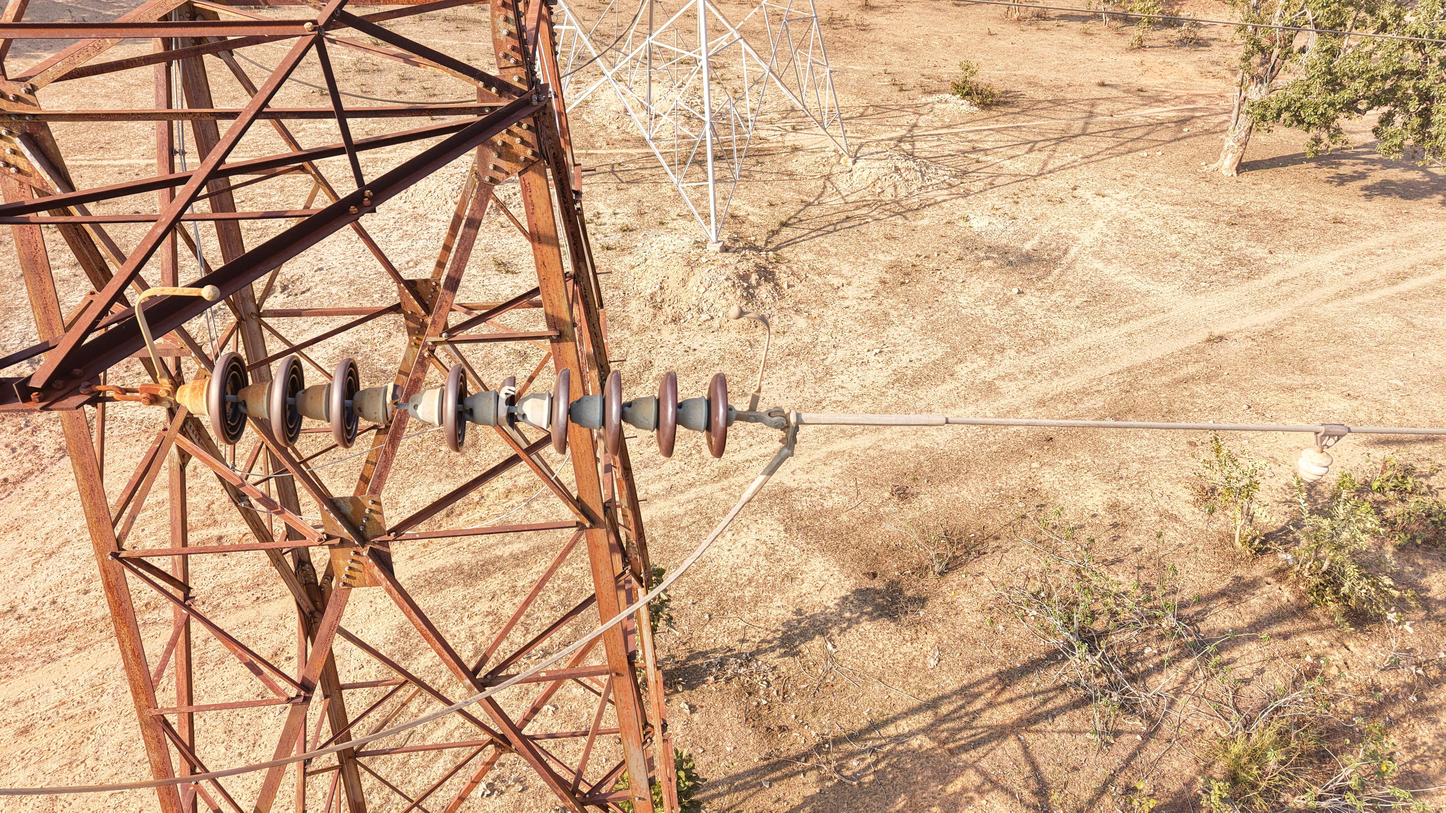broken_insulator: (490, 366, 531, 454)
